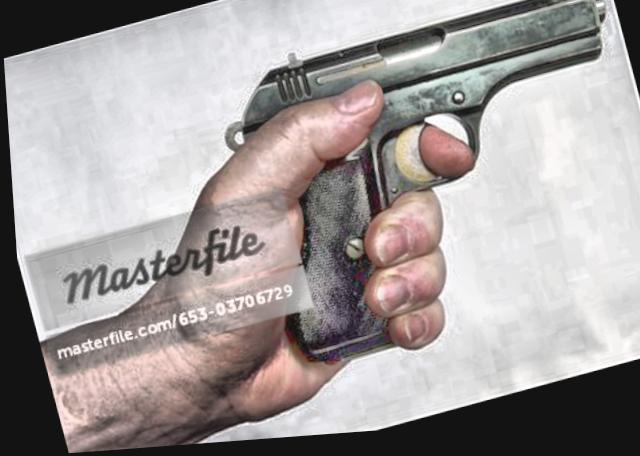pistol: (164, 0, 640, 387)
